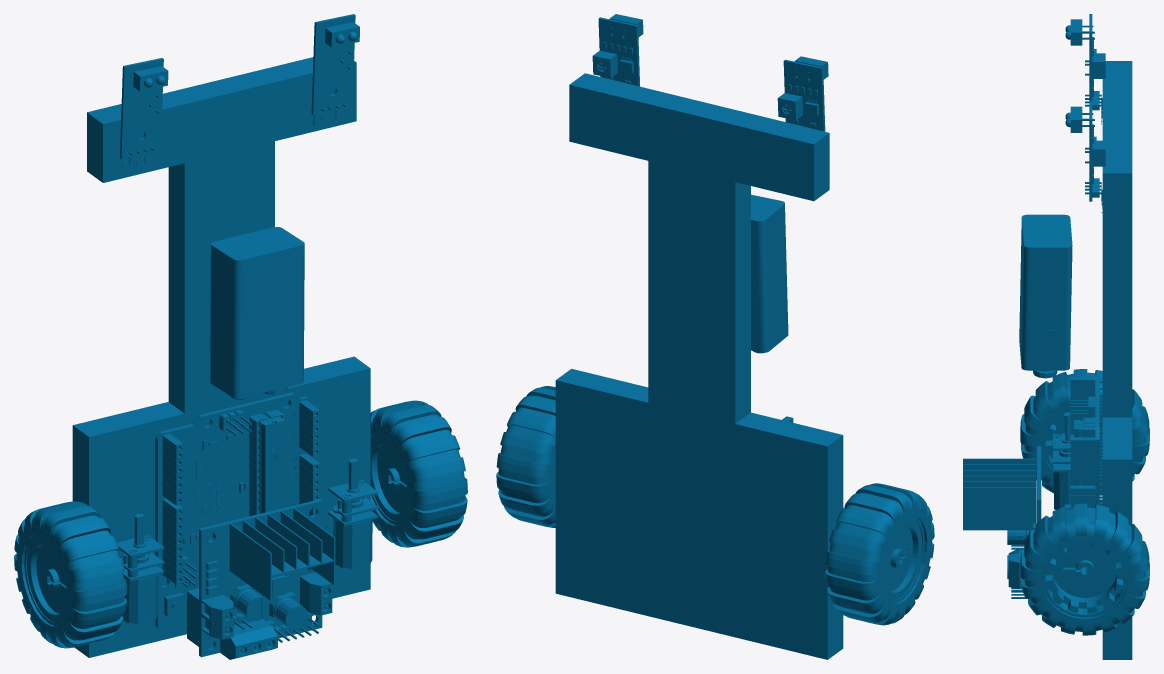
File: tinker.obj
3 renders of one model, left to right at view 1: azimuth 30°, elevation 25°; view 2: azimuth 150°, elevation 25°; view 3: azimuth 270°, elevation 25°, orthographic. The views are drawn at different scales.
Visible parts, largest first — view 1: obj_0; view 2: obj_0; view 3: obj_0.
Boxes of the visible parts, box(x1,y1,x2,y2) form: obj_0: box(14, 14, 467, 659); obj_0: box(496, 14, 934, 659); obj_0: box(963, 14, 1149, 659).
Size of the model in its own units: 139 by 200 by 63.4.
